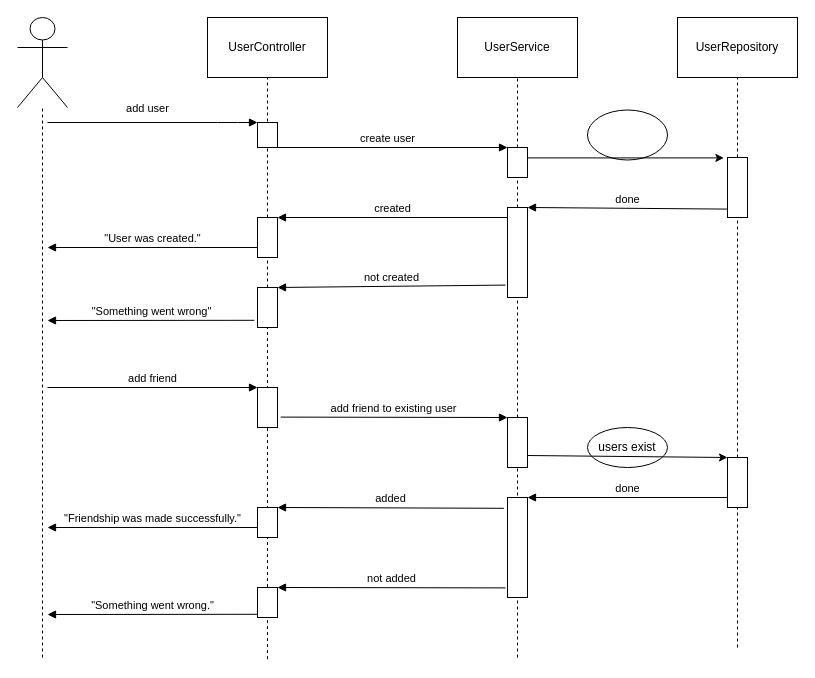
This 815x678 diagram has some shape labels left out. The centre of each missing label's shape, as x and y in pixels:
Actor: (x=42, y=62)
name and email not null: (x=627, y=134)
